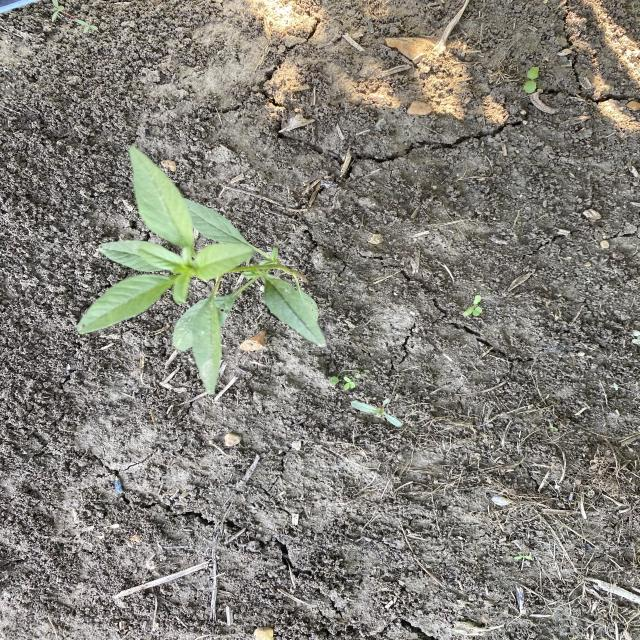Waterhemp: (72, 143, 332, 397)
